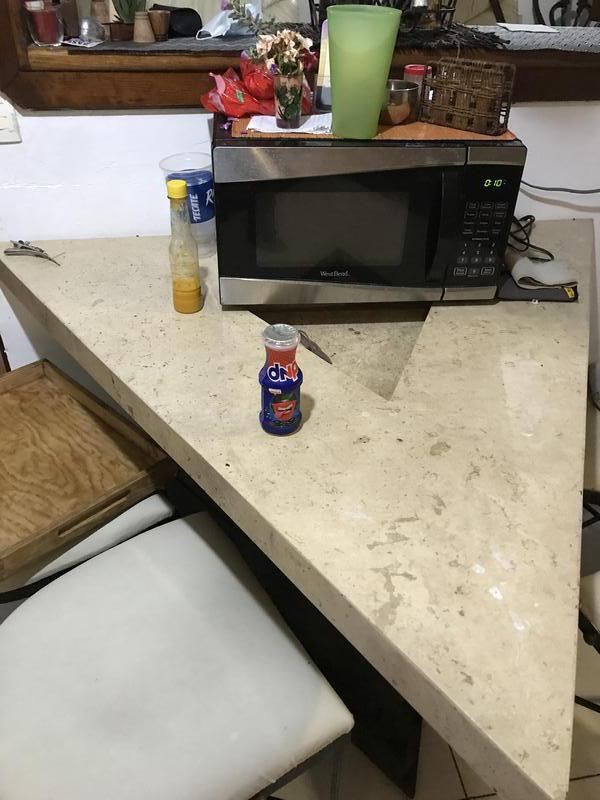danup: (257, 323, 305, 437)
